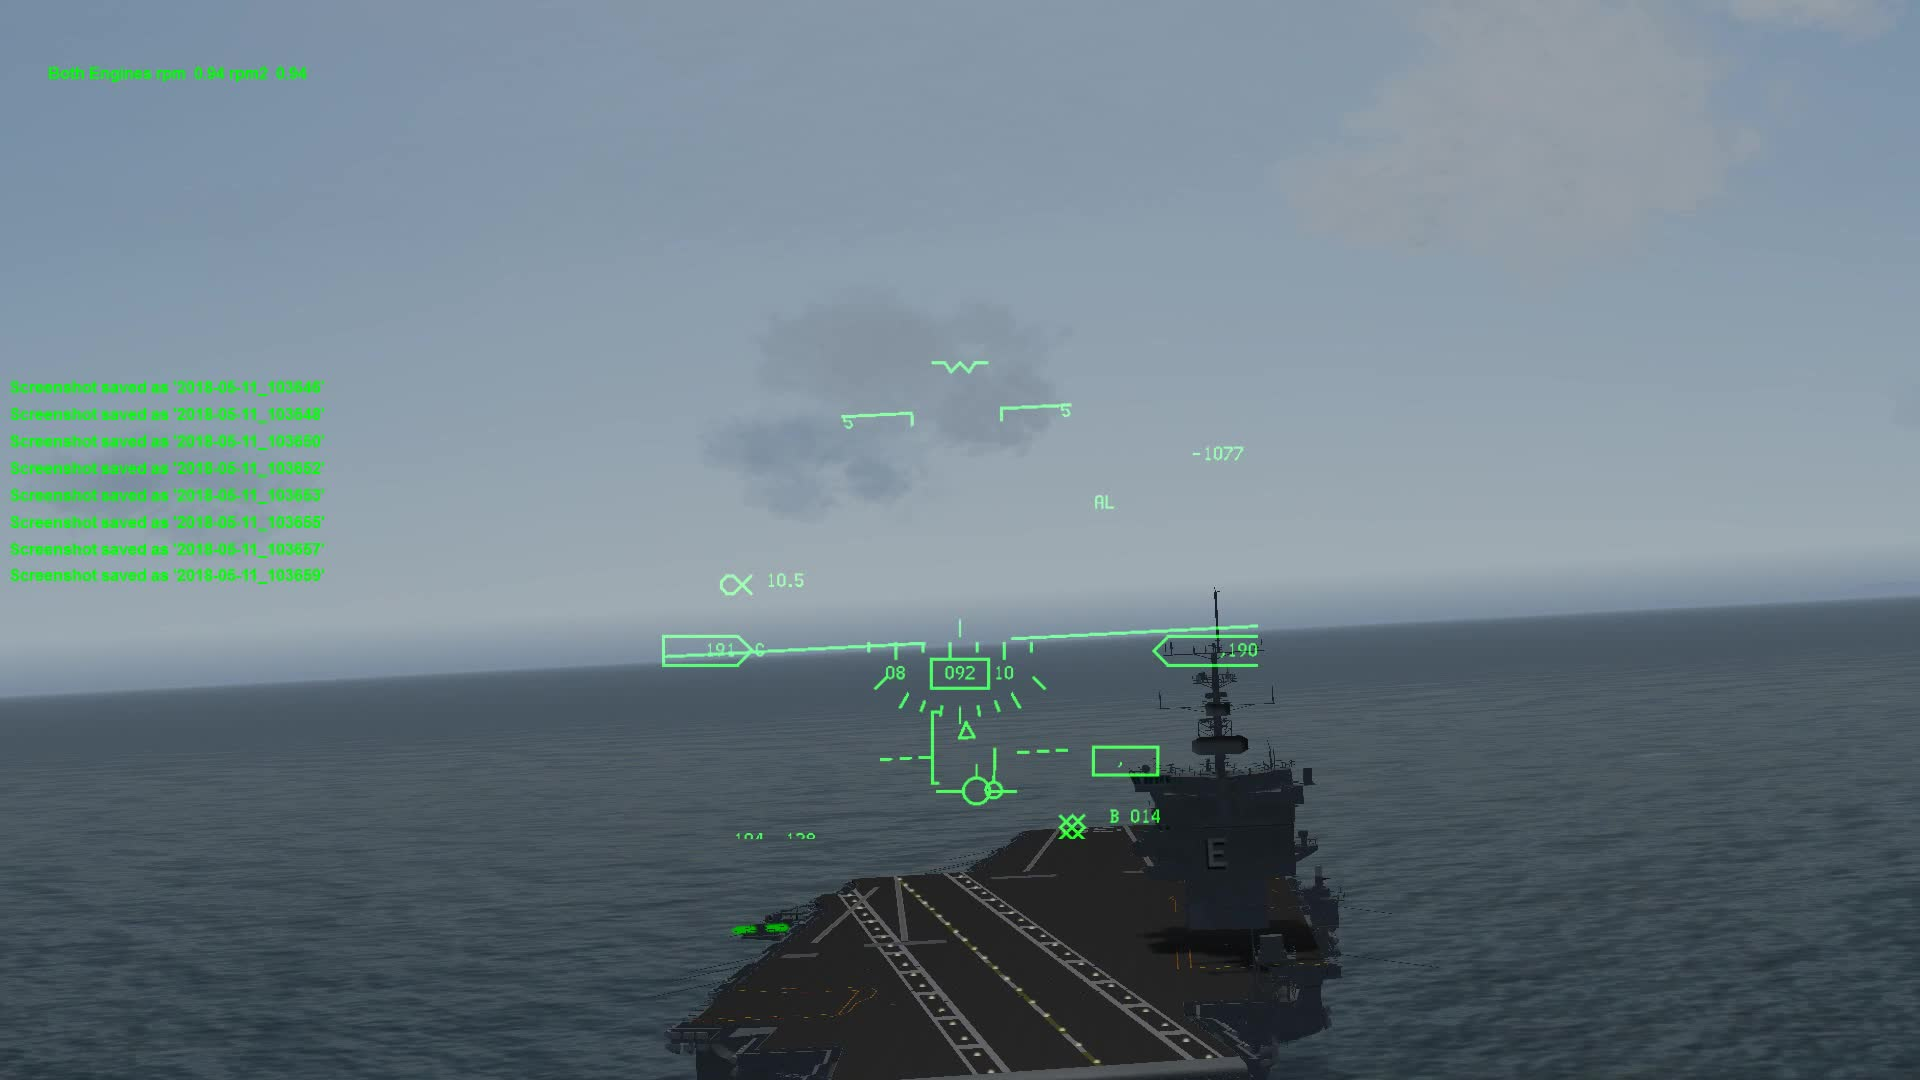speed_vector: (934, 764, 1014, 810)
